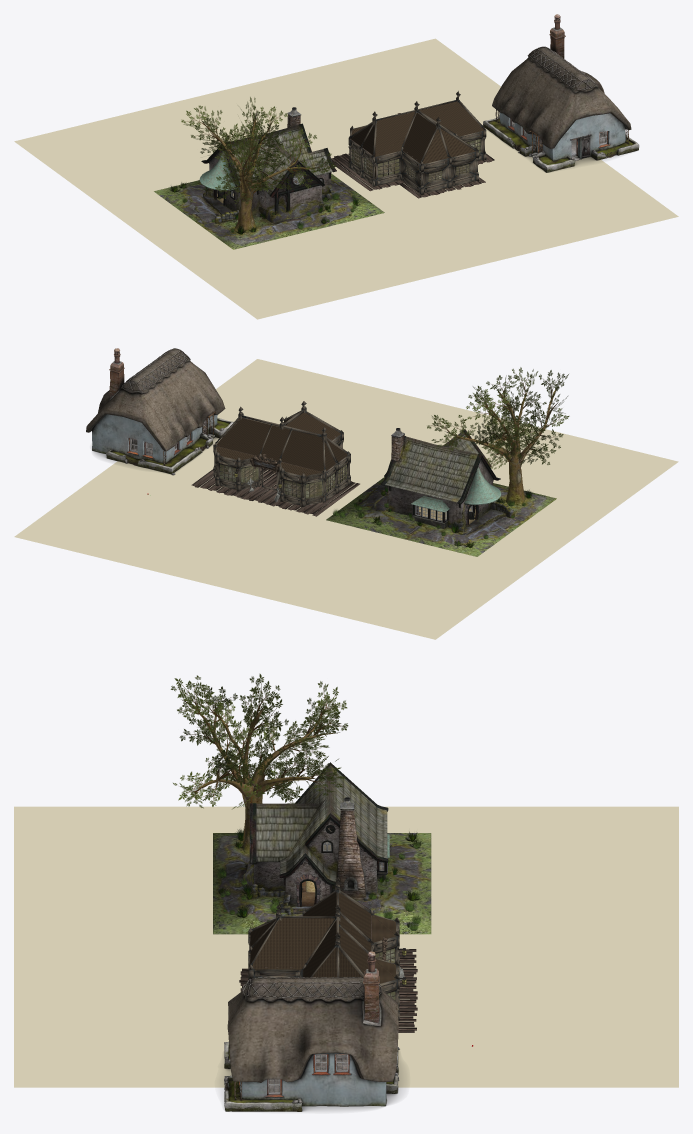
3 views of the same model, one above another, from view 1: azimuth 30°, elevation 25°; view 2: azimuth 150°, elevation 25°; view 3: azimuth 270°, elevation 25° (orthographic). The views are drawn at different scales.
Parts seen in each view (by area): view 1: Terrain 5,1, Cottage Petite (×8), Stan's Previously-Owned Coffins 38 prims (Pirate Town), Cottage Cairns Haven (×3), Cottage Cairn's Haven; view 2: Terrain 5,1, Cottage Petite (×8), Stan's Previously-Owned Coffins 38 prims (Pirate Town), Cottage Cairns Haven (×5), Cottage Cairn's Haven; view 3: Terrain 5,1, Cottage Petite (×7), Cottage Cairns Haven (×4), Stan's Previously-Owned Coffins 38 prims (Pirate Town), Cottage Cairn's Haven.
Part boxes in pixels (box(x1,y1,x2,y2)): Terrain 5,1: box(14, 38, 678, 319); Cottage Petite (×8): box(154, 97, 384, 249); Stan's Previously-Owned Coffins 38 prims (Pirate Town): box(331, 91, 494, 198); Cottage Cairns Haven (×3): box(492, 14, 631, 160); Cottage Cairn's Haven: box(527, 46, 598, 93); Terrain 5,1: box(14, 359, 678, 639); Cottage Petite (×8): box(326, 367, 569, 556); Stan's Previously-Owned Coffins 38 prims (Pirate Town): box(191, 401, 359, 516); Cottage Cairns Haven (×5): box(86, 348, 225, 474); Cottage Cairn's Haven: box(120, 348, 190, 394); Terrain 5,1: box(14, 806, 678, 1087); Cottage Petite (×7): box(170, 673, 431, 934); Cottage Cairns Haven (×4): box(224, 951, 398, 1111); Stan's Previously-Owned Coffins 38 prims (Pirate Town): box(239, 877, 417, 1032); Cottage Cairn's Haven: box(242, 977, 381, 1002).
Size of the model in its own units: 71.48 by 20.19 by 64.
Materials: 80 (77 with a texture image).
